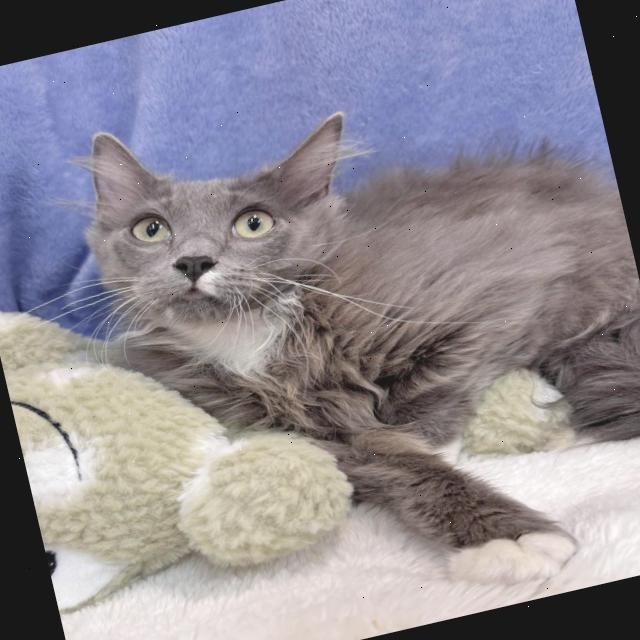maine_coon_cat: (17, 44, 407, 383)
